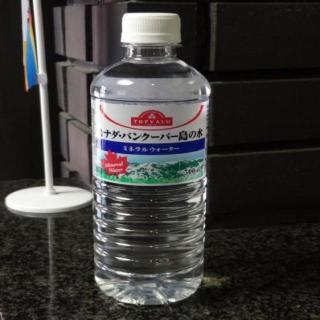Anorganik: (88, 9, 210, 310)
